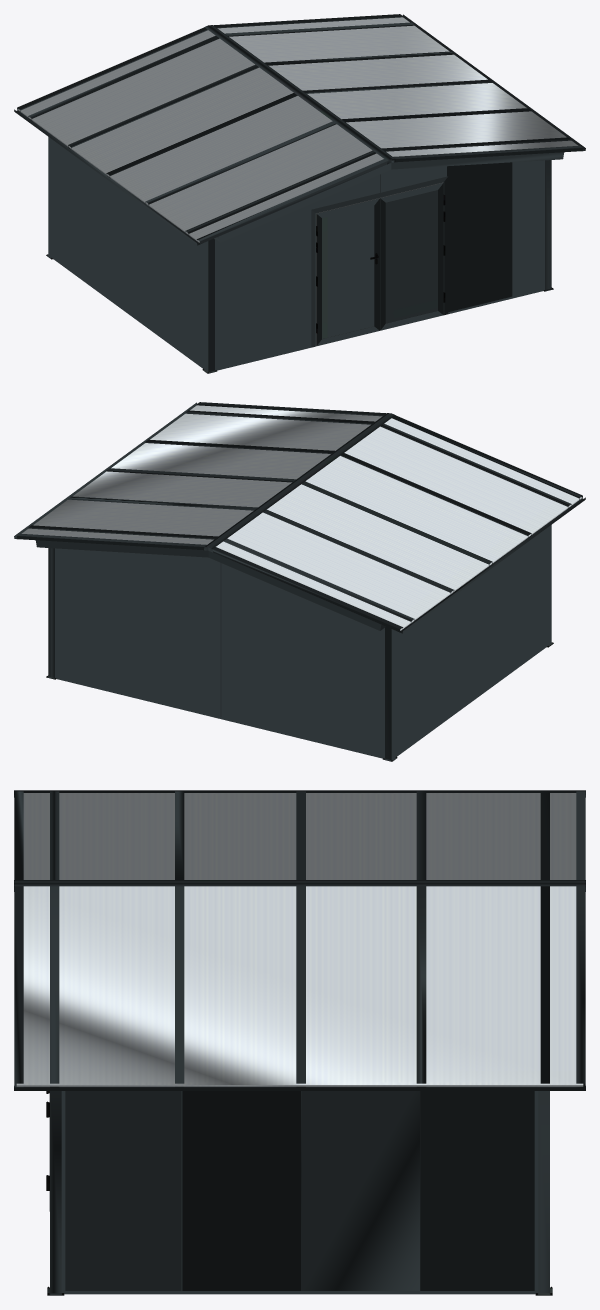
3 views of the same model, one above another, from view 1: azimuth 30°, elevation 25°; view 2: azimuth 150°, elevation 25°; view 3: azimuth 270°, elevation 25° (orthographic). The views are drawn at different scales.
Visible parts, largest first — view 1: priximbattable_net_abris_de_jardin_640004_abri_de_jardin_orc, folha, folha_2, porta_dupla; view 2: priximbattable_net_abris_de_jardin_640004_abri_de_jardin_orc; view 3: priximbattable_net_abris_de_jardin_640004_abri_de_jardin_orc.
Boxes of the visible parts, x1,y1,x2,y2 form: priximbattable_net_abris_de_jardin_640004_abri_de_jardin_orc: (14, 14, 585, 373); folha: (380, 182, 445, 330); folha_2: (316, 198, 379, 346); porta_dupla: (311, 176, 448, 347); priximbattable_net_abris_de_jardin_640004_abri_de_jardin_orc: (14, 402, 585, 761); priximbattable_net_abris_de_jardin_640004_abri_de_jardin_orc: (14, 790, 585, 1295).
Size of the model in its own units: 589 by 261 by 480.
Materials: 1 (1 with a texture image).
